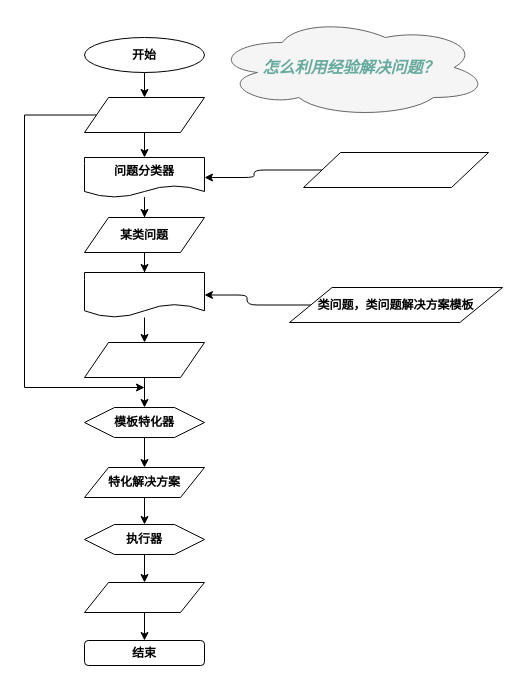
This 520x683 diagram has some shape labels left out. The centre of each missing label's shape, as x and y in pixels:
某个问题: (x=144, y=114)
类问题特征组，类问题: (x=395, y=170)
结果: (x=144, y=597)
解决方案模板: (x=144, y=360)
解决方案模板选择器: (x=144, y=295)
